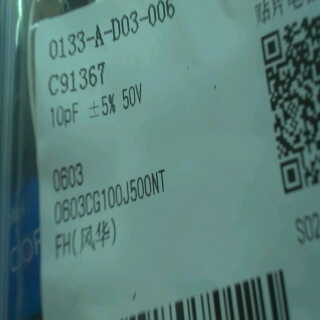10pF: (44, 97, 93, 137)
